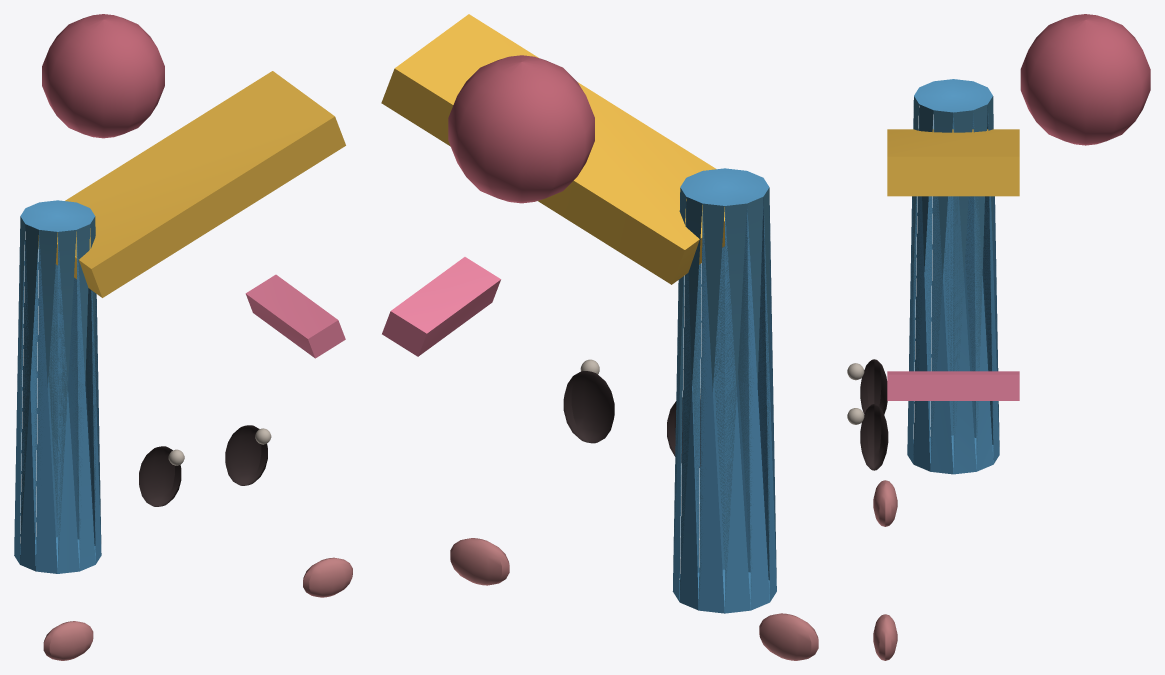
3 renders of one model, left to right at view 1: azimuth 30°, elevation 25°; view 2: azimuth 150°, elevation 25°; view 3: azimuth 270°, elevation 25°, orthographic. The views are drawn at different scales.
Visible parts, largest first — view 1: pet_p01b02a70; view 2: pet_p01b02a70; view 3: pet_p01b02a70.
Boxes of the visible parts, x1,y1,x2,y2 form: pet_p01b02a70: (14, 14, 352, 660); pet_p01b02a70: (381, 14, 818, 660); pet_p01b02a70: (847, 14, 1150, 660).
Size of the model in its own units: 0.2861 by 0.4764 by 0.2296.
